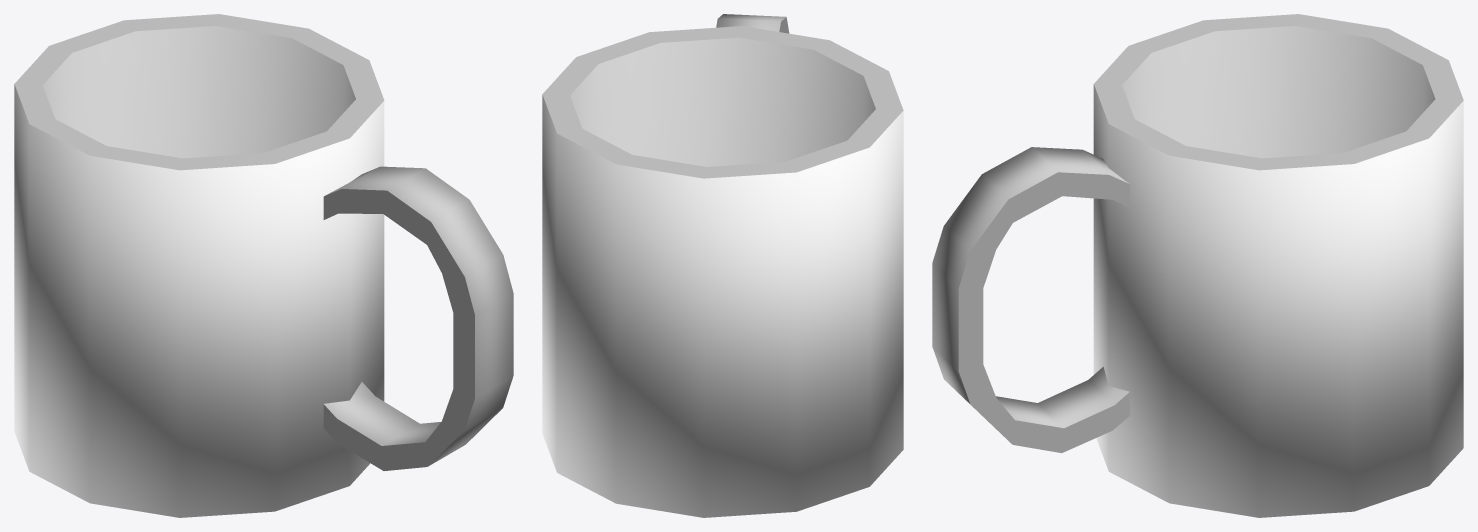
Rendered from cup.gltf.
3 renders of one model, left to right at view 1: azimuth 30°, elevation 25°; view 2: azimuth 150°, elevation 25°; view 3: azimuth 270°, elevation 25°, orthographic. The views are drawn at different scales.
Visible parts, largest first — view 1: Cup (Empty).002; view 2: Cup (Empty).002; view 3: Cup (Empty).002.
Part boxes in pixels (box(x1,y1,x2,y2)): Cup (Empty).002: box(14, 14, 513, 517); Cup (Empty).002: box(542, 14, 903, 517); Cup (Empty).002: box(932, 14, 1463, 517).
Size of the model in its own units: 0.1124 by 0.1166 by 0.1616.
2 materials, 1 textured.
